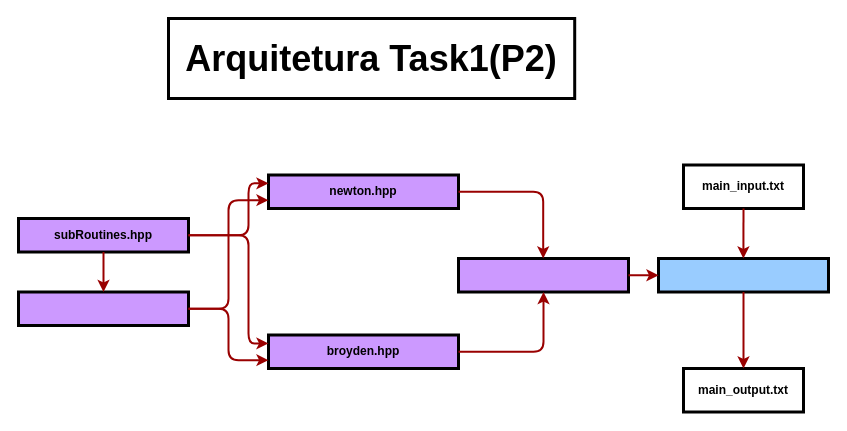
This 847x431 diagram has some shape labels left out. Each missing label, with the centre of its shape:
NLSystem.hpp: point (103, 308)
routines.hpp: point (543, 274)
task1.cpp: point (743, 274)
